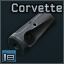AR-15 Nordic Components Corvette 5.56x45 compensator: (0, 0, 64, 64)
